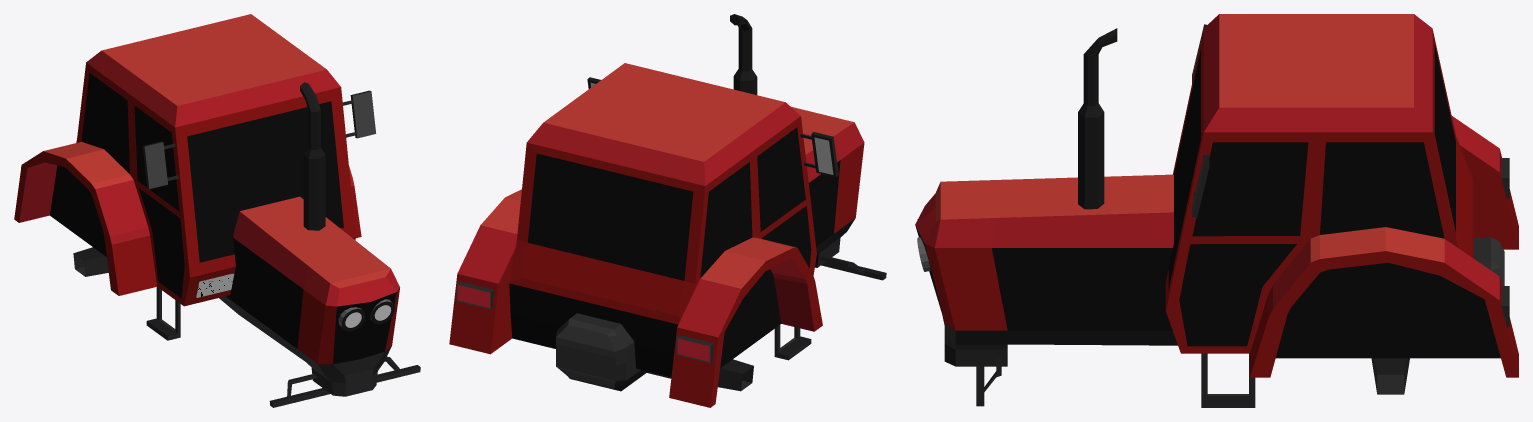
Rendered from Tractor.002.fbx.
The picture shows the model from 3 angles, left to right: view 1: azimuth 30°, elevation 25°; view 2: azimuth 150°, elevation 25°; view 3: azimuth 270°, elevation 25°; orthographic projection. The views are drawn at different scales.
Visible parts, largest first — view 1: Tractor.002; view 2: Tractor.002; view 3: Tractor.002.
Part boxes in pixels (x1,y1,x2,y2): Tractor.002: (14, 14, 420, 407); Tractor.002: (449, 14, 886, 407); Tractor.002: (915, 14, 1518, 407).
Bounding box in the file's own units: 2.11 × 2.2 × 3.54.
